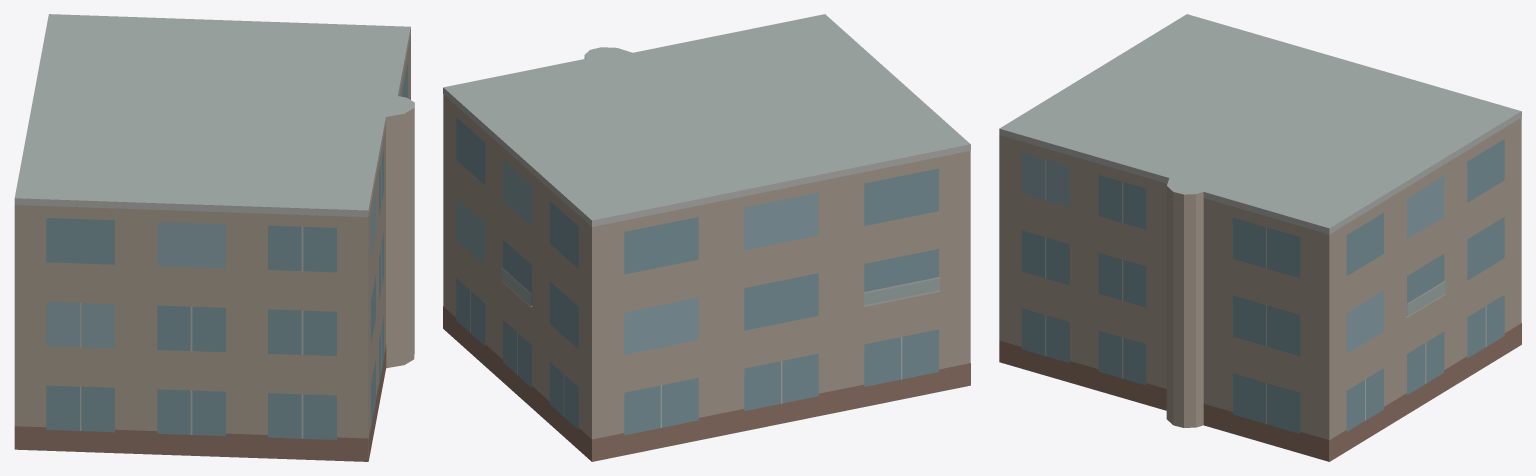
The model's file is survey-upis-32780059.glb.
3 views of the same model, side by side, from view 1: azimuth 30°, elevation 25°; view 2: azimuth 150°, elevation 25°; view 3: azimuth 270°, elevation 25° (orthographic). The views are drawn at different scales.
Visible parts, largest first — view 1: survey-upis-32780059.tmp; view 2: survey-upis-32780059.tmp; view 3: survey-upis-32780059.tmp.
Boxes of the visible parts, left/top/right/bottom form: survey-upis-32780059.tmp: left=14, top=14, right=414, bottom=461; survey-upis-32780059.tmp: left=443, top=14, right=970, bottom=461; survey-upis-32780059.tmp: left=999, top=14, right=1521, bottom=461.
Bounding box in the file's own units: 18.03 × 9.15 × 18.56.
